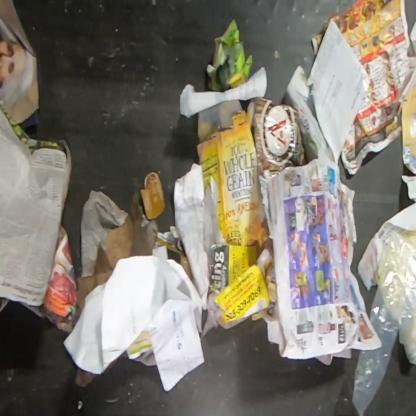cardboard: (194, 98, 270, 247), (245, 97, 307, 179), (140, 172, 166, 221)
soft_plastic: (350, 228, 415, 415)
